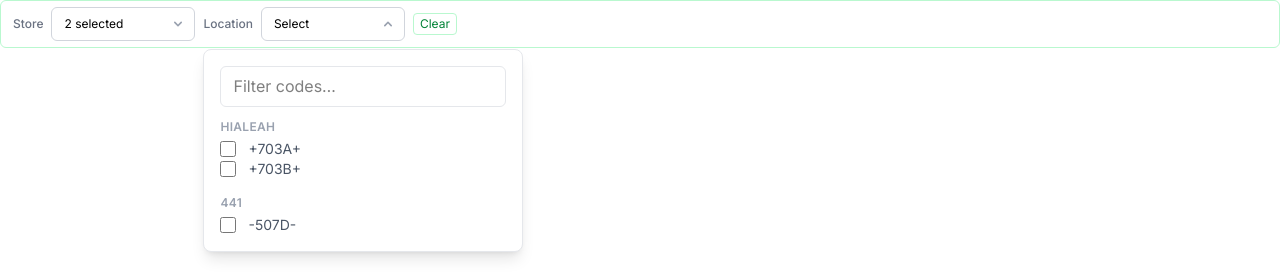
Test: the shelf list › says so plainly when nothing matches
Type "zzz" into the search field with placeholder "Filter codes…" at (363, 86), box [220, 66, 506, 107]
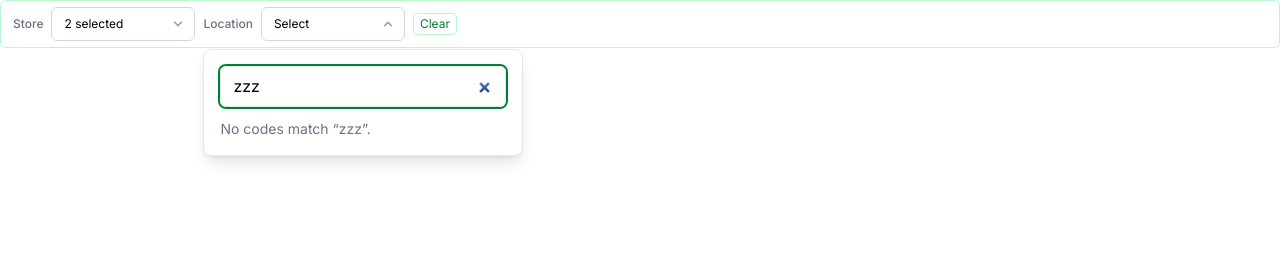
Check: the text "No codes match “zzz”." is shown, box [220, 120, 371, 137]
